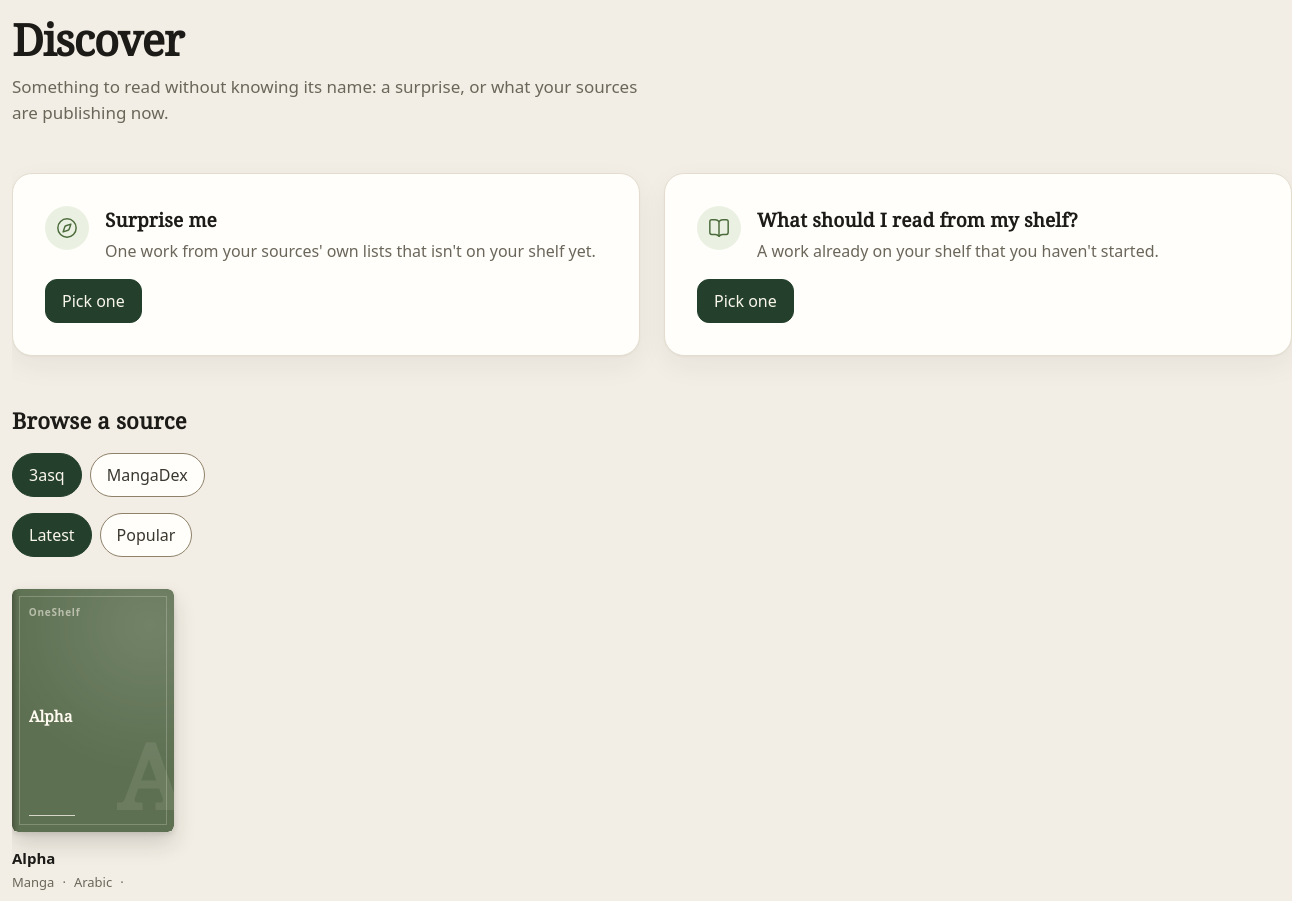
Test: Discover › switches source and list, offering only the lists a source has
Expected: the text "Alpha" is shown, [12,848,55,868]
Click the button "Popular": (146, 535) [100,513,192,557]
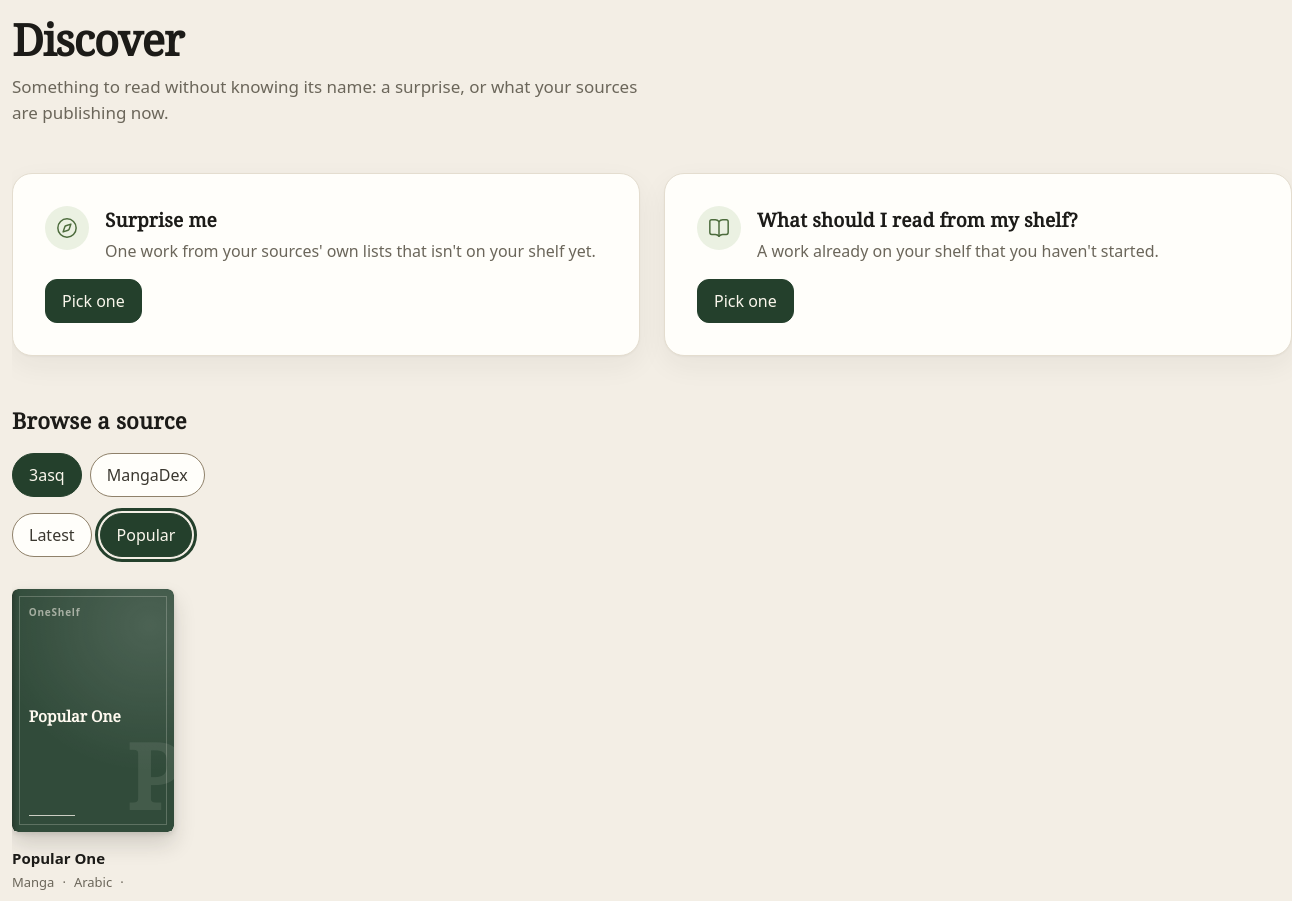
Result: the text "Popular One" is shown at [12,848,105,868]
Click the button "MangaDex": (147, 475) [90,453,205,497]
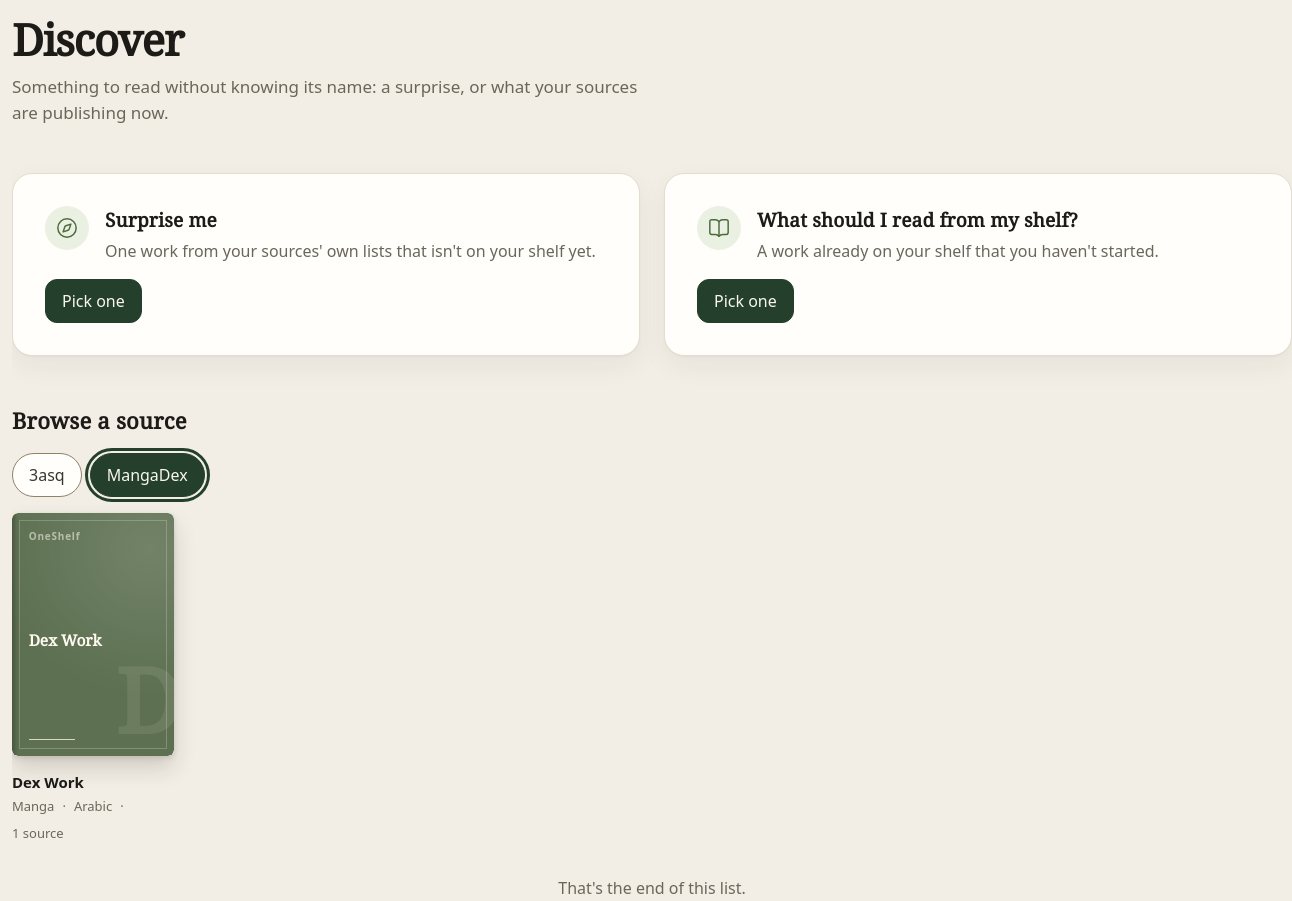
Result: the text "Dex Work" is shown at [12,772,84,792]
Result: the button "Popular" is gone
